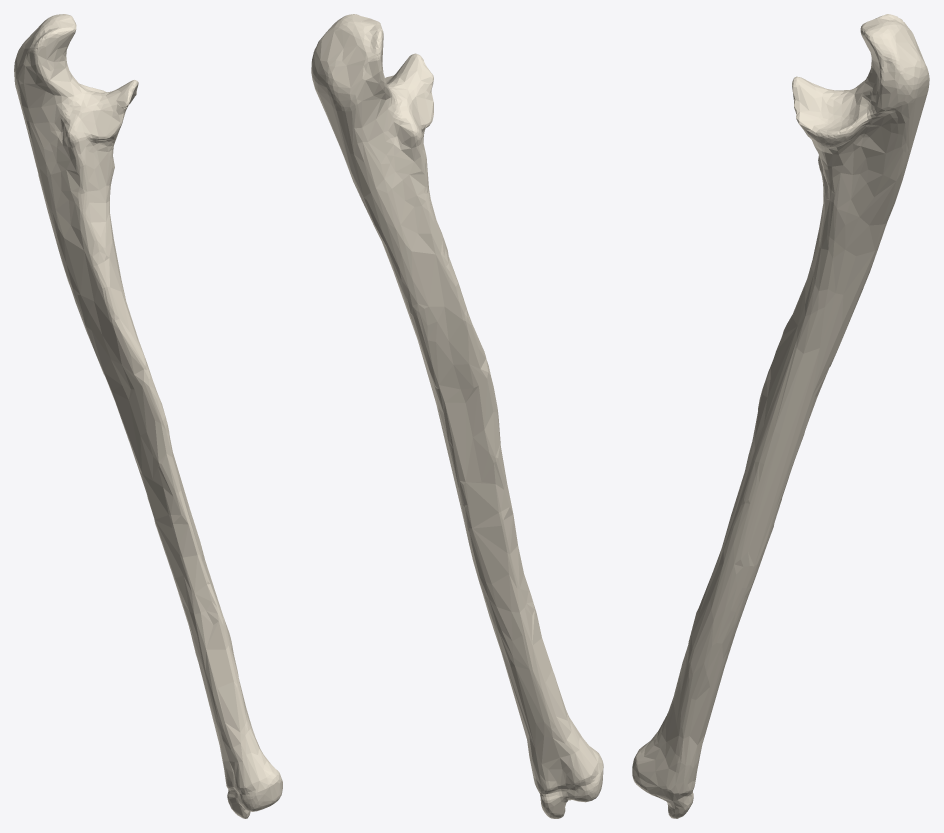
The model's file is ulna_right.glb.
3 views of the same model, side by side, from view 1: azimuth 90°, elevation 25°; view 2: azimuth 150°, elevation 25°; view 3: azimuth 270°, elevation 25° (orthographic). The views are drawn at different scales.
Bounding box in the file's own units: 0.0509 × 0.2477 × 0.0796.
